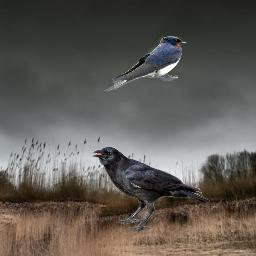Crow: (92, 146, 210, 232)
Swallow: (104, 36, 187, 94)
